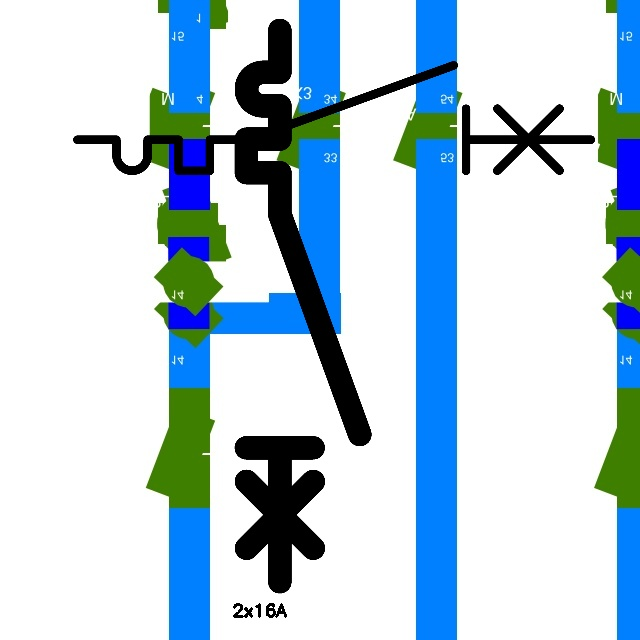interruptor_termomagnetico: (232, 16, 374, 595), (64, 52, 604, 184)
